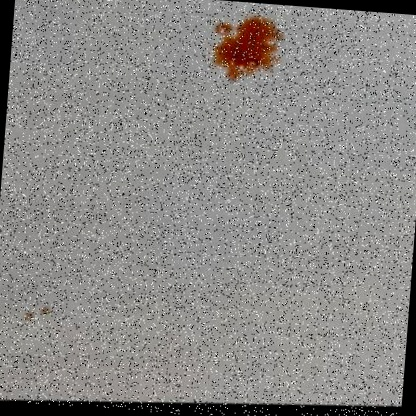kimchi: (201, 11, 287, 92)
